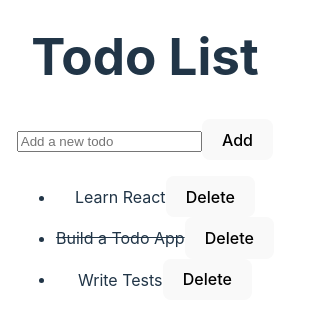
Test: adds a new todo
In the field with placeholder "Add a new todo": (109, 141) [17,131,202,152], type "New Todo"
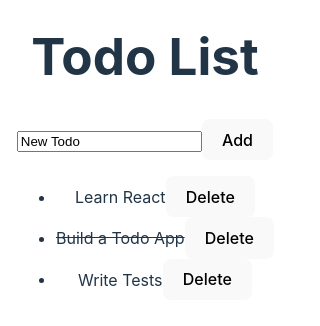
Click the button "Add": (238, 140) [202,119,273,160]
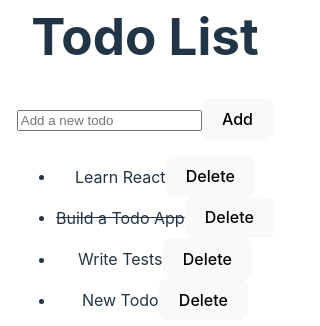
Expected: the text "New Todo" is shown, [82,290,159,310]
